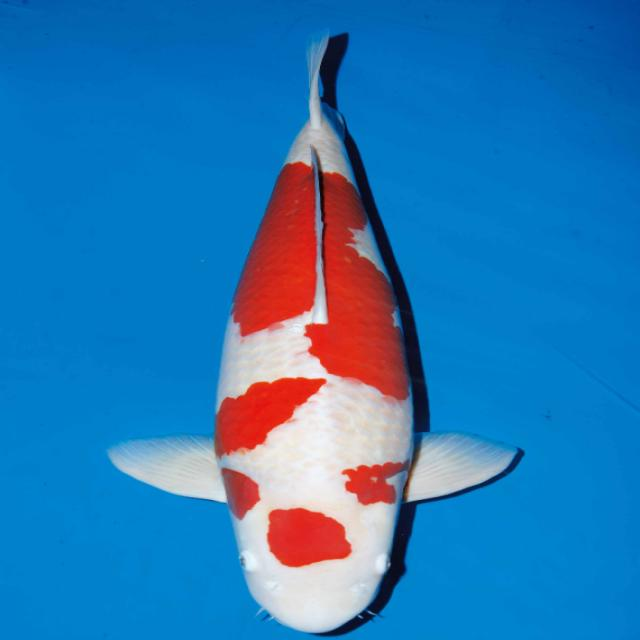Kohaku: (107, 29, 524, 635)
